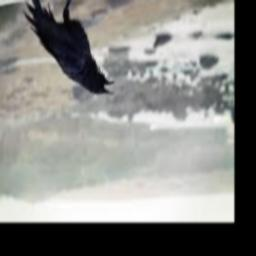Crow: (23, 0, 116, 97)
